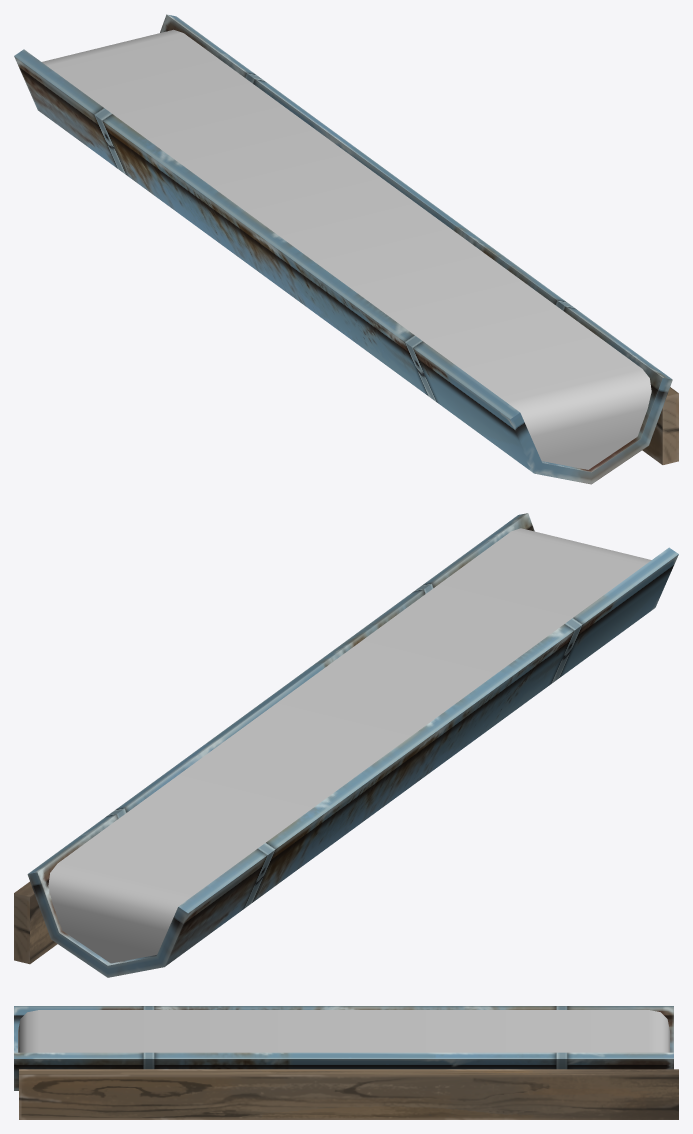
The model's file is gutterPlanter01.fbx.
3 renders of one model, top to bottom at view 1: azimuth 30°, elevation 25°; view 2: azimuth 150°, elevation 25°; view 3: azimuth 270°, elevation 25°, orthographic. The views are drawn at different scales.
Parts seen in each view (by area): view 1: gutterPlanter01; view 2: gutterPlanter01; view 3: gutterPlanter01.
Part boxes in pixels (left/top/right/bottom): gutterPlanter01: left=14, top=14, right=678, bottom=484; gutterPlanter01: left=14, top=513, right=678, bottom=977; gutterPlanter01: left=14, top=1006, right=678, bottom=1119.
Bounding box in the file's own units: 31.83 × 16.09 × 160.
